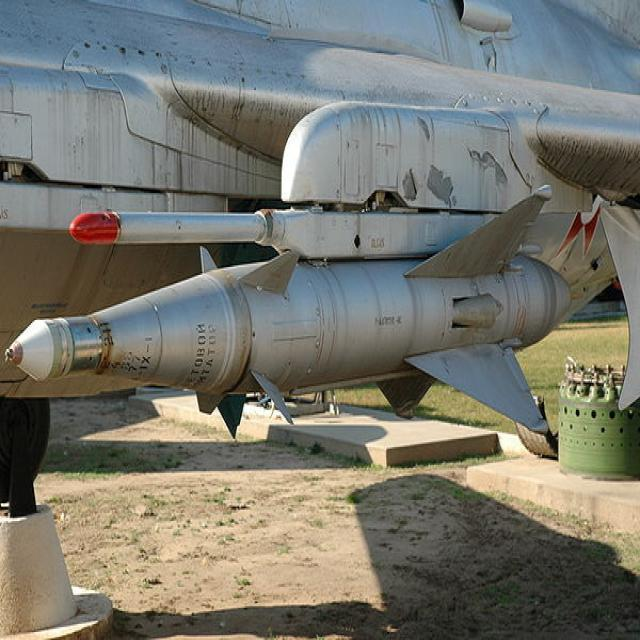Missile: (0, 243, 609, 431)
